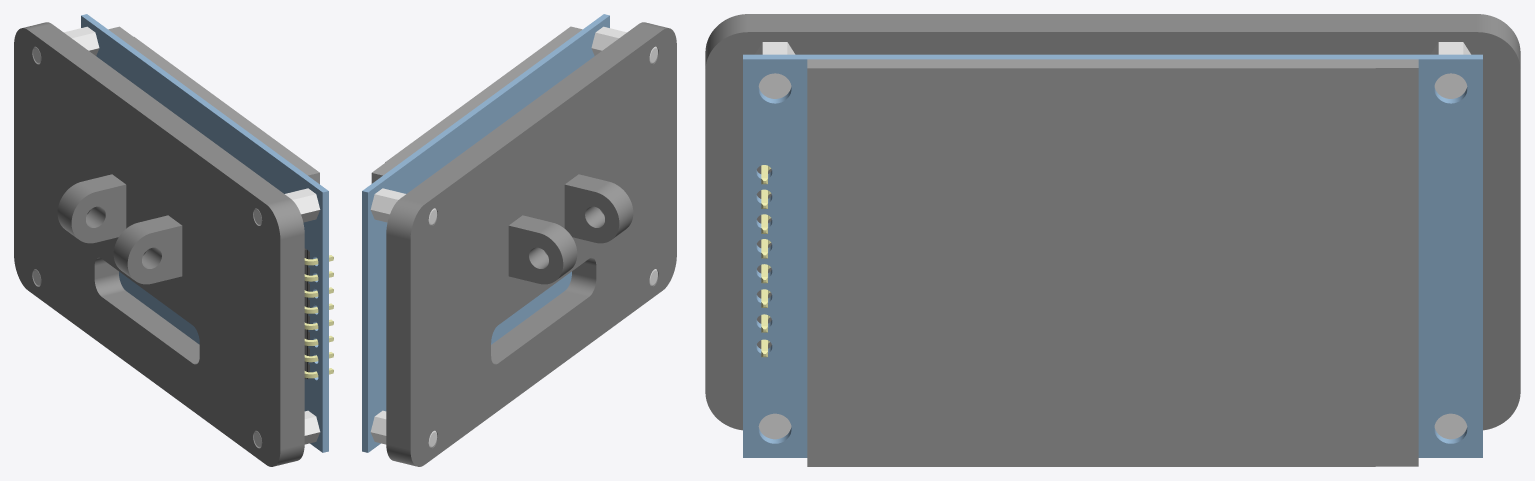
File: screen_assy.dae
The picture shows the model from 3 angles, left to right: view 1: azimuth 30°, elevation 25°; view 2: azimuth 150°, elevation 25°; view 3: azimuth 270°, elevation 25°; orthographic projection. The views are drawn at different scales.
Visible parts, largest first — view 1: BodyArray.008; view 2: BodyArray.008; view 3: BodyArray.008.
Part boxes in pixels (<box>): BodyArray.008: <box>14,14,333,466</box>; BodyArray.008: <box>362,14,676,466</box>; BodyArray.008: <box>705,14,1520,466</box>.
Size of the model in its own units: 0.021 by 0.076 by 0.041.
